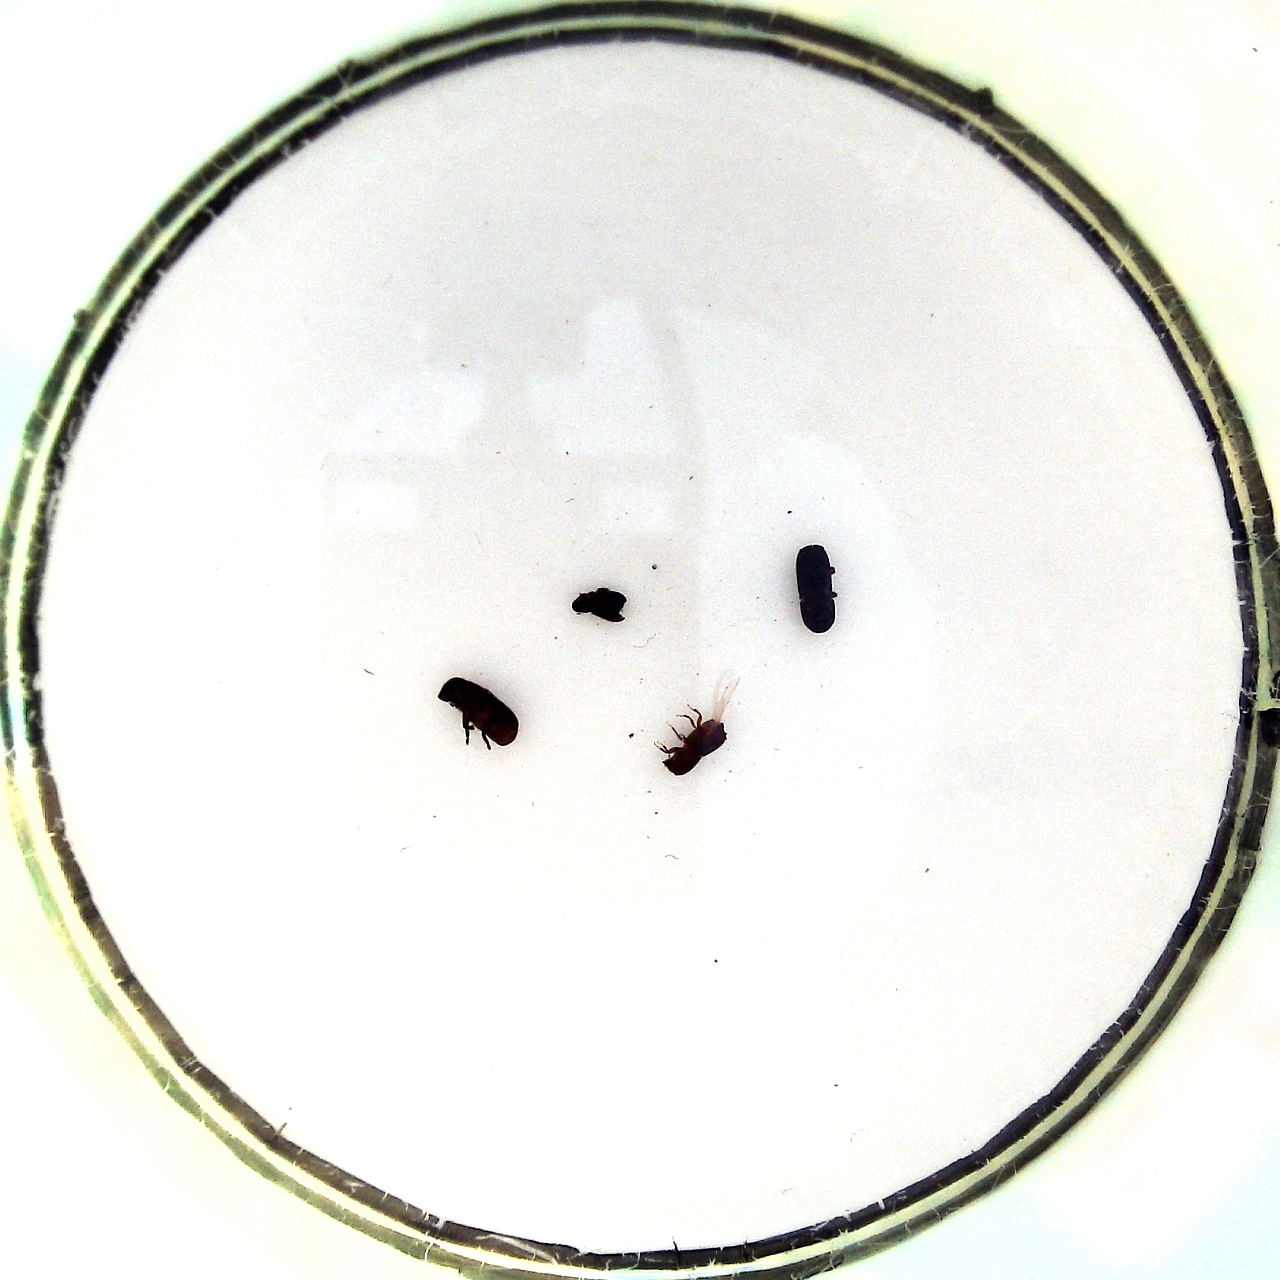Linnaeus: (794, 538, 845, 636)
acuminatus: (653, 700, 731, 779)
armandi: (434, 670, 524, 749)
coleoptera: (567, 581, 631, 627)
